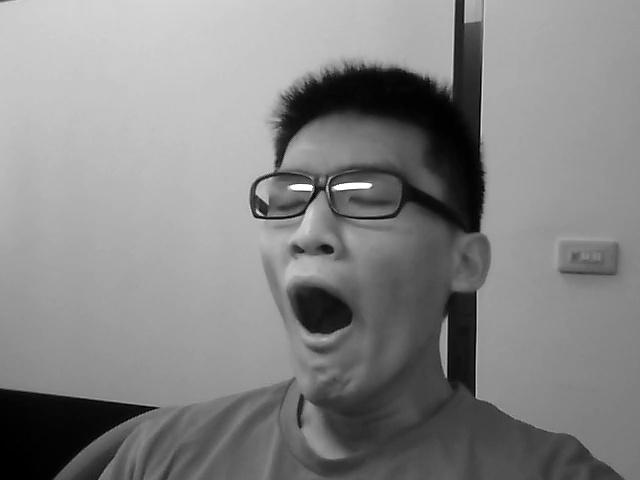eye_closed: (344, 182, 400, 215), (272, 188, 309, 216)
face: (256, 113, 454, 408)
mouth_open: (283, 274, 356, 353)
